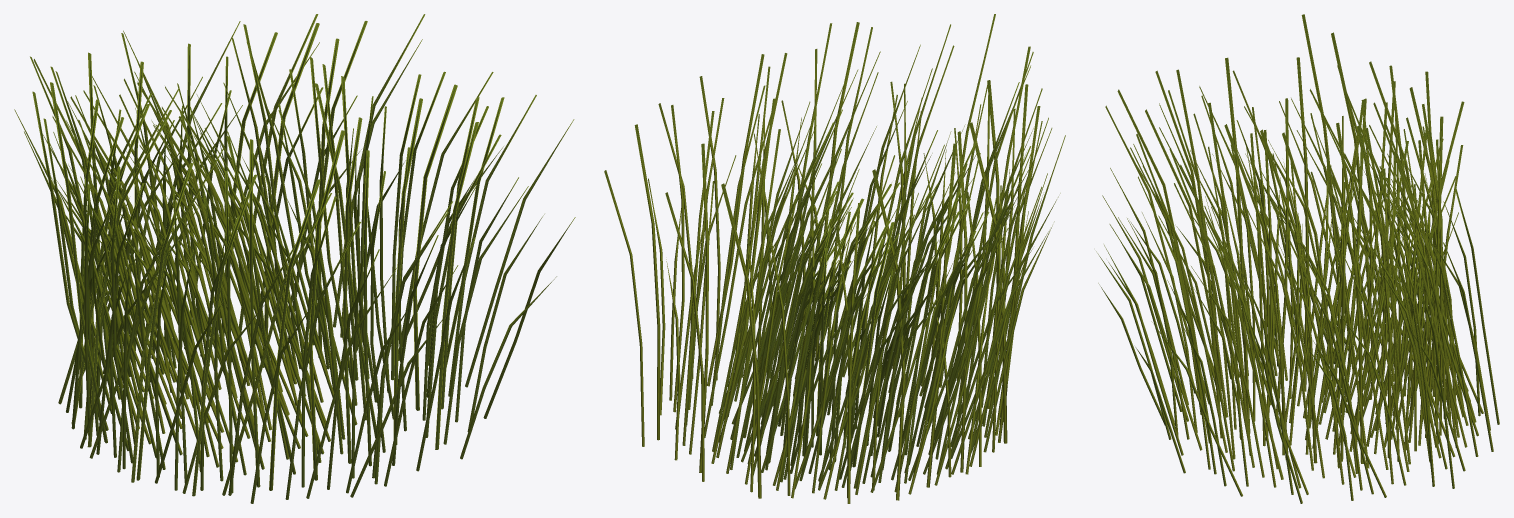
The model's file is grass3.obj.
The picture shows the model from 3 angles, left to right: view 1: azimuth 30°, elevation 25°; view 2: azimuth 150°, elevation 25°; view 3: azimuth 270°, elevation 25°; orthographic projection. The views are drawn at different scales.
Visible parts, largest first — view 1: tree; view 2: tree; view 3: tree.
Part boxes in pixels (bbox=[...]): tree: bbox=[14, 14, 575, 503]; tree: bbox=[604, 14, 1065, 503]; tree: bbox=[1096, 14, 1499, 503].
Size of the model in its own units: 149 by 118 by 133.
1 material, 1 textured.
